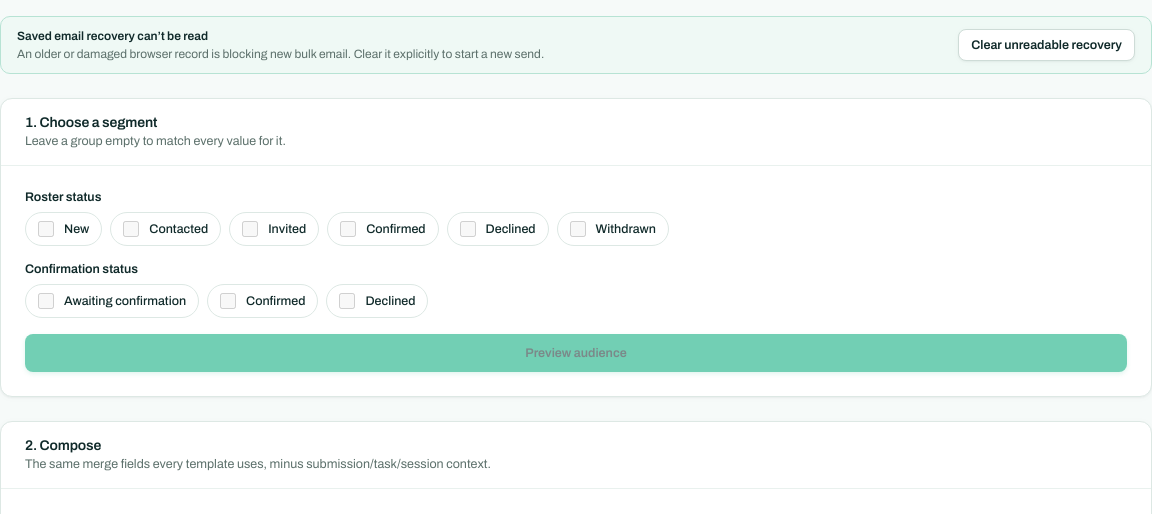
Test case: segment bulk email recovery › surfaces and explicitly clears an unreadable recovery before allowing another send
Check: the button "Preview audience" is disabled, box [25, 334, 1127, 372]
What coordinates should you click on to do the following:
click the button "Clear unreadable recovery"
I would click on:
 (1047, 45)
Its box is [958, 29, 1135, 61].
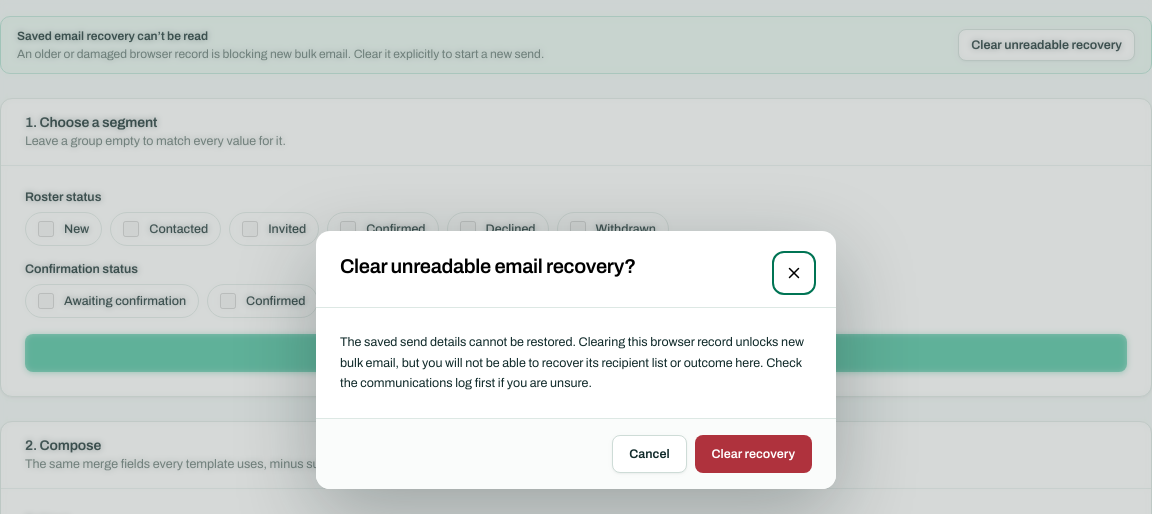
Check: the text "Clear unreadable email recovery?" is shown, box [340, 255, 636, 277]
What coordinates should you click on to do the following:
click the button "Clear recovery"
I would click on:
 (753, 454)
Its box is [695, 435, 812, 473].
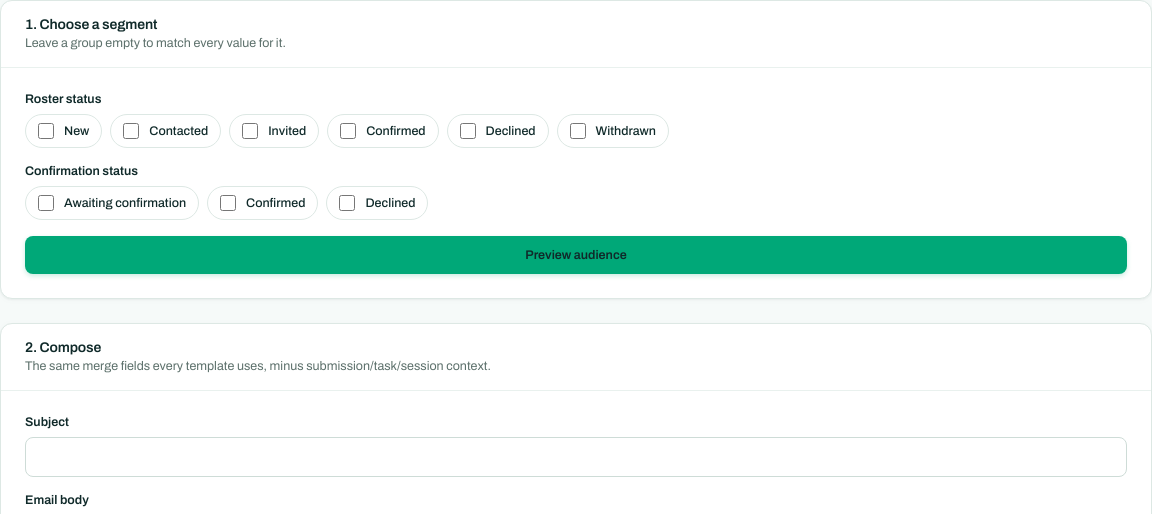
Check: the text "Saved email recovery can’t be read" is gone
Check: the button "Preview audience" is enabled, box [25, 236, 1127, 274]
